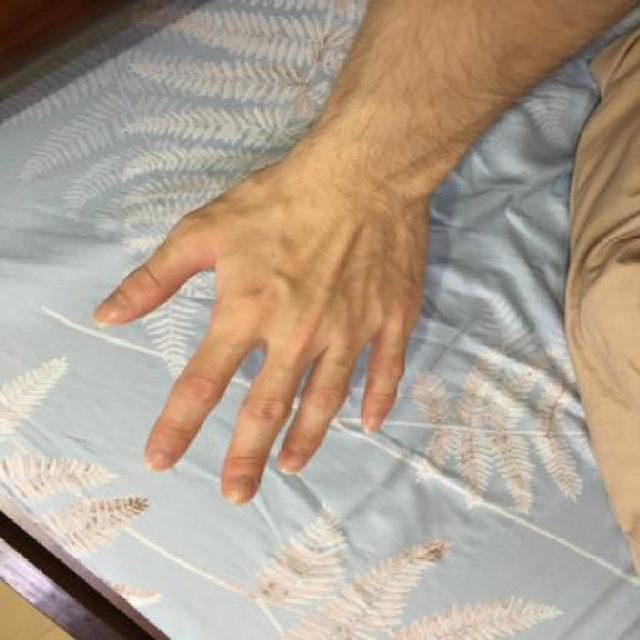bare_hand: (84, 128, 447, 521)
